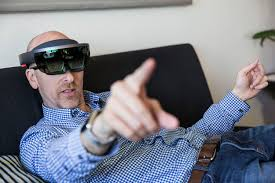hololens: (18, 43, 92, 76)
